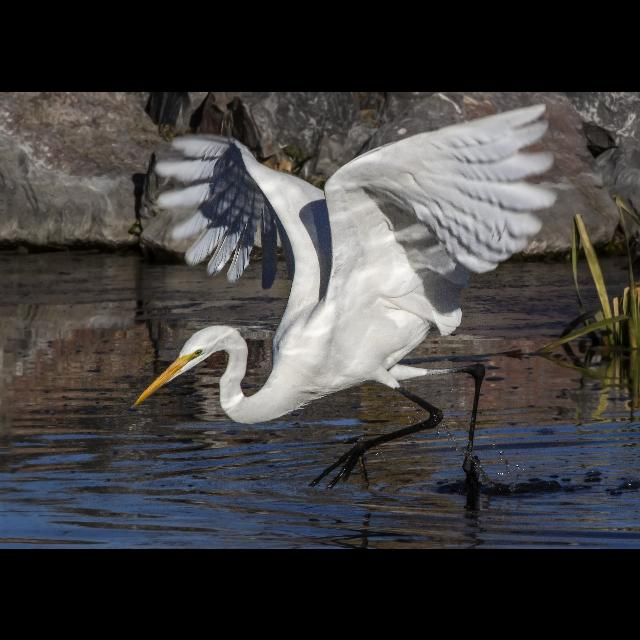egret: (120, 95, 564, 491)
